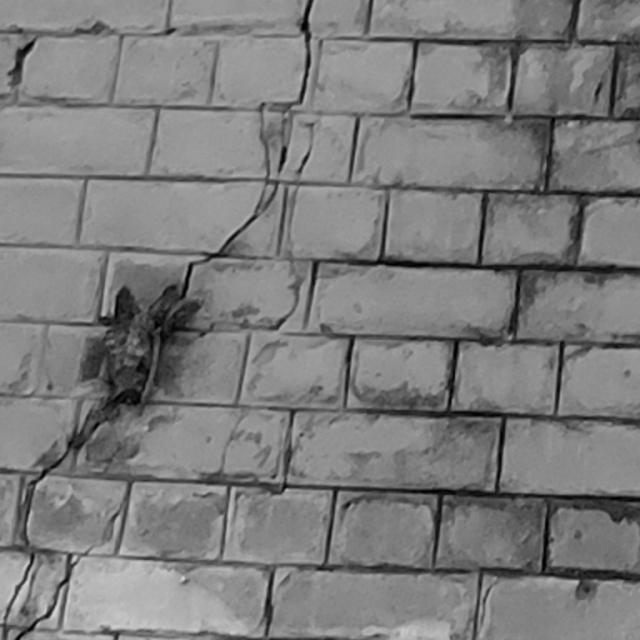crack: (1, 1, 312, 640)
